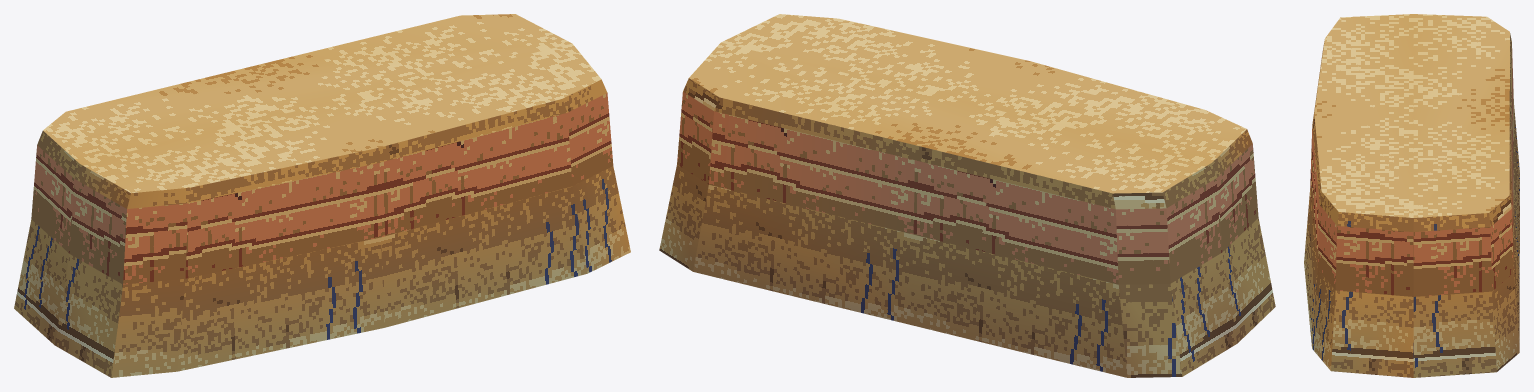
The model's file is wland.ledge__high.glb.
3 renders of one model, left to right at view 1: azimuth 30°, elevation 25°; view 2: azimuth 150°, elevation 25°; view 3: azimuth 270°, elevation 25°, orthographic. The views are drawn at different scales.
Parts seen in each view (by area): view 1: kit_ledge; view 2: kit_ledge; view 3: kit_ledge.
Boxes of the visible parts, x1=… form: kit_ledge: x1=14, y1=14, x2=630, y2=377; kit_ledge: x1=659, y1=14, x2=1275, y2=377; kit_ledge: x1=1304, y1=14, x2=1519, y2=377.
Size of the model in its own units: 10.38 by 3.2 by 4.2.
4 materials, 4 textured.
